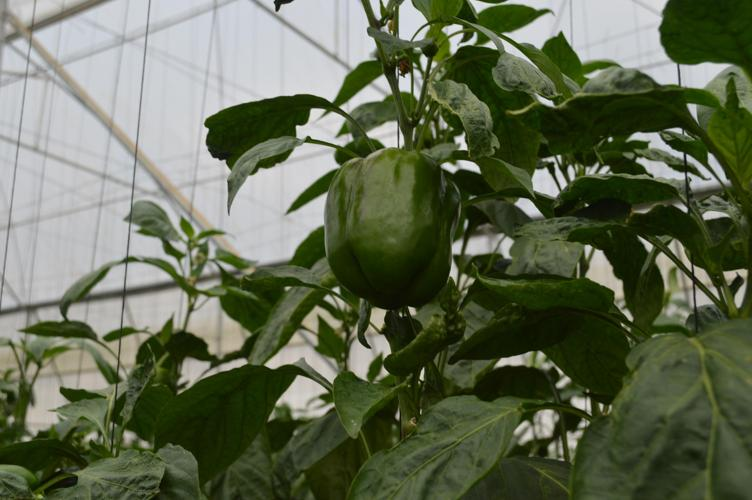BellPepper: (313, 143, 472, 321)
